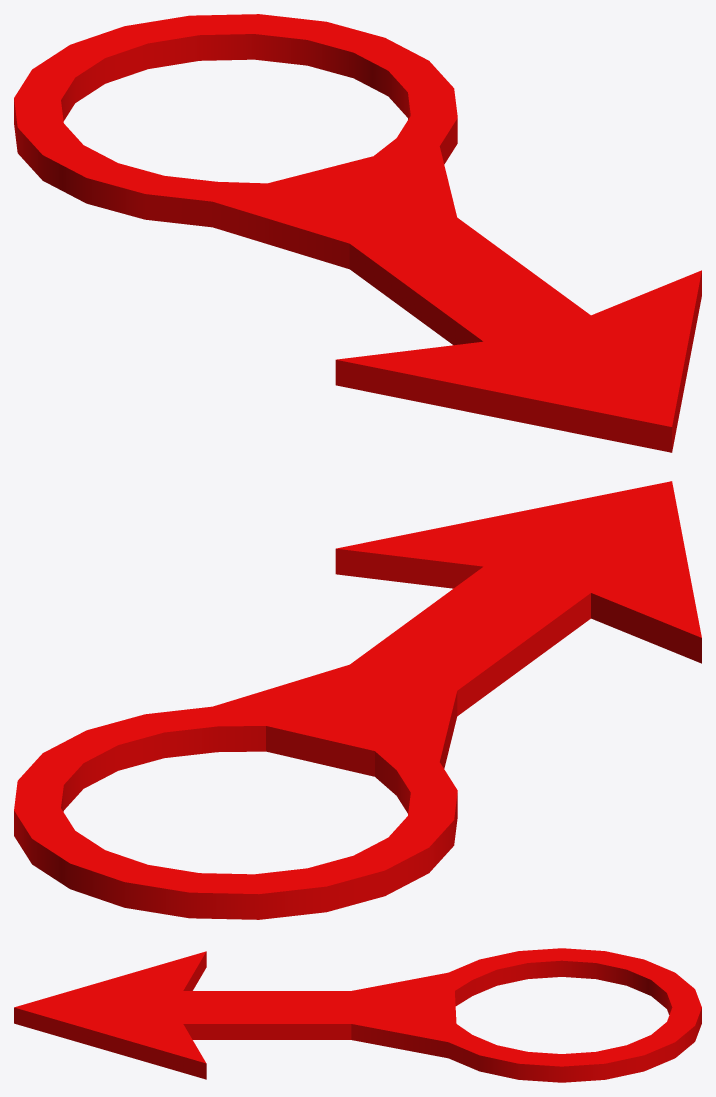
File: arrow.obj
The picture shows the model from 3 angles, top to bottom: view 1: azimuth 30°, elevation 25°; view 2: azimuth 150°, elevation 25°; view 3: azimuth 270°, elevation 25°; orthographic projection. The views are drawn at different scales.
Visible parts, largest first — view 1: arrow; view 2: arrow; view 3: arrow.
Part boxes in pixels (x1=…): arrow: x1=14, y1=14, x2=701, y2=452; arrow: x1=14, y1=481, x2=701, y2=919; arrow: x1=14, y1=948, x2=701, y2=1082.
Bounding box in the file's own units: 2.19 × 0.1389 × 5.37.
